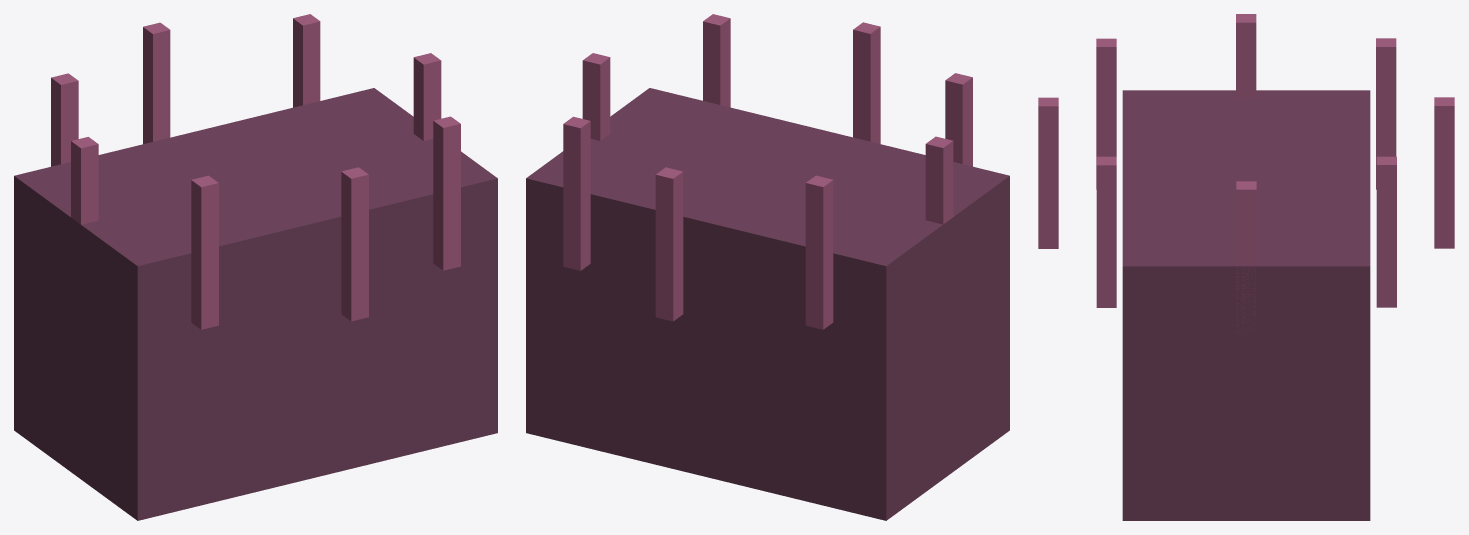
File: boss_nightmare.glb
3 views of the same model, side by side, from view 1: azimuth 30°, elevation 25°; view 2: azimuth 150°, elevation 25°; view 3: azimuth 270°, elevation 25° (orthographic).
Visible parts, largest first — view 1: geometry_0; view 2: geometry_0; view 3: geometry_0.
Boxes of the visible parts, <box> form: geometry_0: <box>14,14,497,520</box>; geometry_0: <box>526,14,1009,520</box>; geometry_0: <box>1038,14,1454,520</box>.
Bounding box in the file's own units: 1.85 × 1.62 × 1.85.
